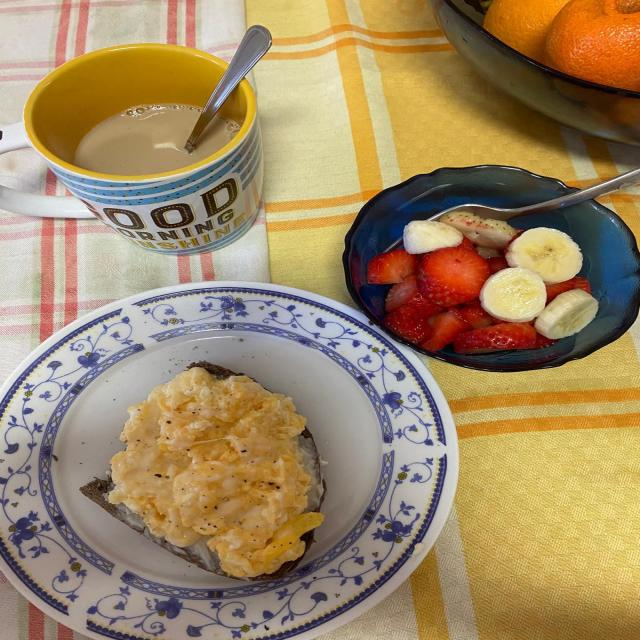banana: (479, 227, 598, 340), (403, 220, 462, 254)
bread: (80, 471, 227, 576), (299, 428, 324, 511), (250, 560, 299, 580), (191, 361, 237, 379), (300, 530, 314, 559)
coffee cup: (0, 282, 459, 640), (18, 26, 271, 254)
cup: (74, 104, 238, 175)
fork: (428, 168, 639, 220)
plate: (0, 282, 459, 640)
scrambled eggs: (109, 368, 323, 578)
spoon: (185, 25, 271, 152)
strawberry: (367, 236, 555, 353), (546, 277, 589, 303)
